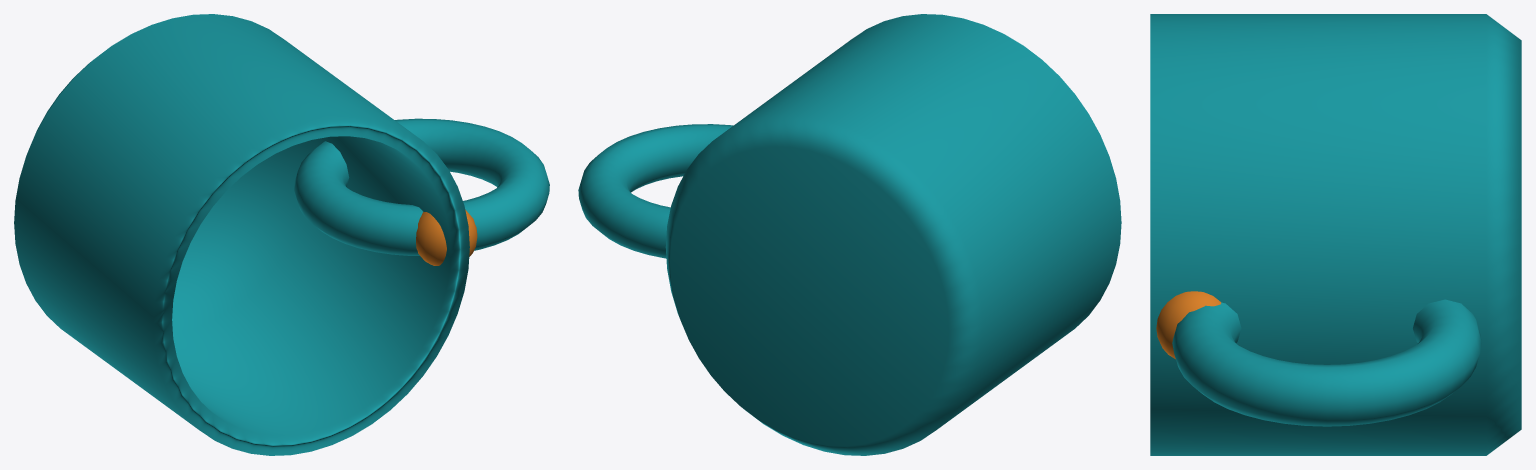
The model's file is cup.glb.
The picture shows the model from 3 angles, left to right: view 1: azimuth 30°, elevation 25°; view 2: azimuth 150°, elevation 25°; view 3: azimuth 270°, elevation 25°; orthographic projection. The views are drawn at different scales.
Visible parts, largest first — view 1: cup; view 2: cup; view 3: cup.
Boxes of the visible parts, box(x1,y1,x2,y2) form: cup: box(14, 14, 549, 455); cup: box(578, 14, 1121, 455); cup: box(1150, 14, 1521, 455).
Bounding box in the file's own units: 0.715 × 0.5 × 0.42.
